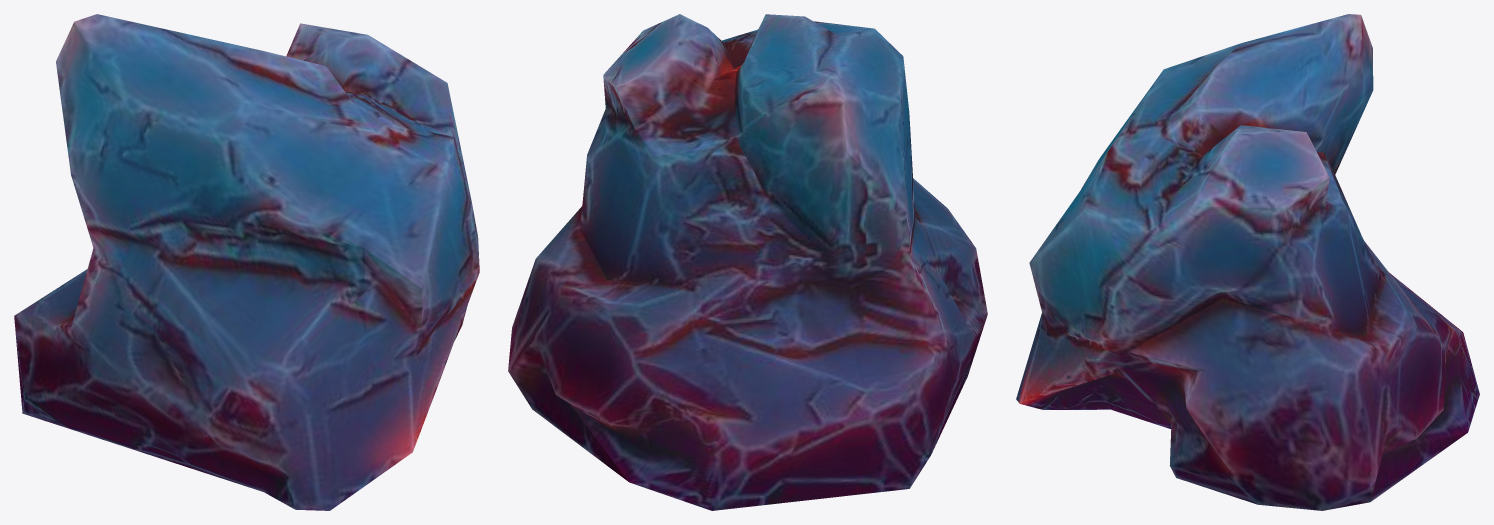
The model's file is crystal.glb.
3 renders of one model, left to right at view 1: azimuth 30°, elevation 25°; view 2: azimuth 150°, elevation 25°; view 3: azimuth 270°, elevation 25°, orthographic. The views are drawn at different scales.
Parts seen in each view (by area): view 1: Stone_low_1; view 2: Stone_low_1; view 3: Stone_low_1.
Part boxes in pixels (x1,y1,x2,y2): Stone_low_1: [14, 14, 479, 510]; Stone_low_1: [508, 14, 987, 510]; Stone_low_1: [1016, 14, 1479, 510].
Size of what is drawn, in the model's own units: 1.08 by 0.9787 by 1.15.
1 material, 1 textured.
